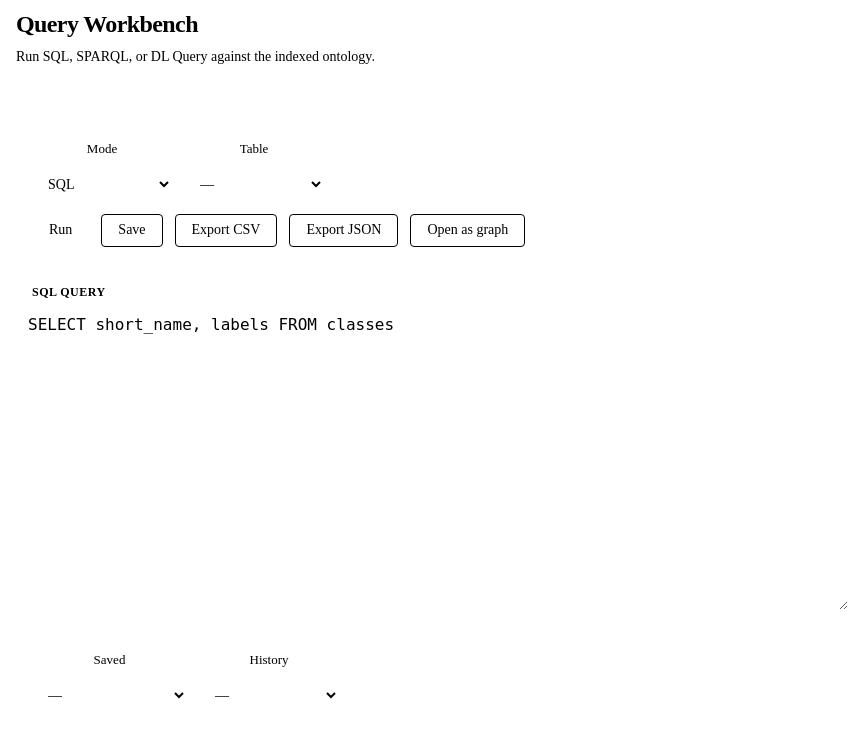
it: QueryWorkbenchPanel › restores asserted dlMode from saved DL query
This screenshot has width=865, height=729.
Select "People asserted (dl)" in the dropdown named "People asserted (dl)": point(110, 695) [32, 678, 187, 713]
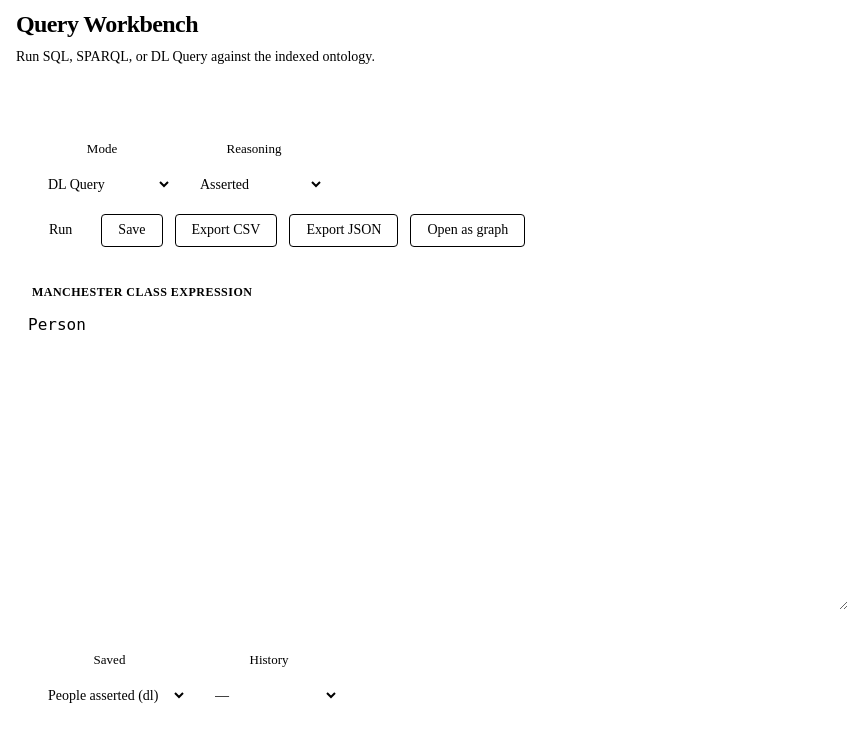
Expected: the dropdown labelled "Mode" shows "DL Query", [32, 167, 172, 202]
Expected: the text box holds "Person", [16, 304, 848, 610]
Expected: the dropdown labelled "Reasoning" shows "Asserted", [184, 167, 324, 202]
